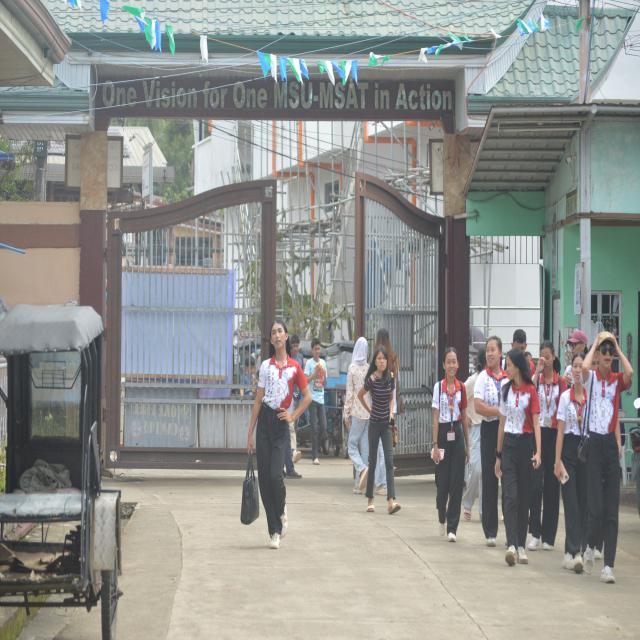person: (248, 321, 311, 549), (581, 332, 633, 583), (495, 348, 540, 565), (528, 341, 566, 550), (555, 352, 588, 573), (432, 347, 469, 542), (358, 347, 400, 514), (474, 336, 507, 546), (462, 346, 486, 520), (344, 337, 369, 493), (305, 339, 326, 464), (374, 328, 399, 385), (567, 330, 588, 358)
